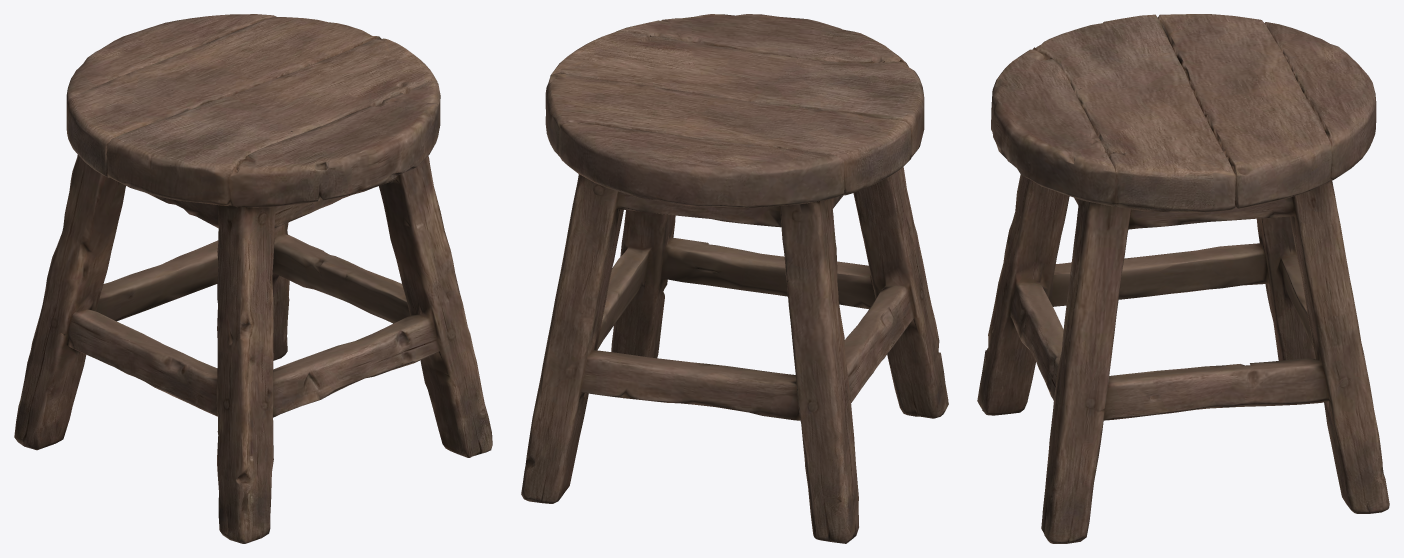
File: stool_wood.glb
3 views of the same model, side by side, from view 1: azimuth 30°, elevation 25°; view 2: azimuth 150°, elevation 25°; view 3: azimuth 270°, elevation 25° (orthographic). The views are drawn at different scales.
Visible parts, largest first — view 1: tripo_node_d63c08b4-3730-48ca-b1ad-e29488fc40f9; view 2: tripo_node_d63c08b4-3730-48ca-b1ad-e29488fc40f9; view 3: tripo_node_d63c08b4-3730-48ca-b1ad-e29488fc40f9.
Boxes of the visible parts, <box> form: tripo_node_d63c08b4-3730-48ca-b1ad-e29488fc40f9: <box>14,14,492,543</box>; tripo_node_d63c08b4-3730-48ca-b1ad-e29488fc40f9: <box>521,14,948,543</box>; tripo_node_d63c08b4-3730-48ca-b1ad-e29488fc40f9: <box>977,14,1389,543</box>.
Size of the model in its own units: 1 by 0.9716 by 0.9847.
1 material, 1 textured.
